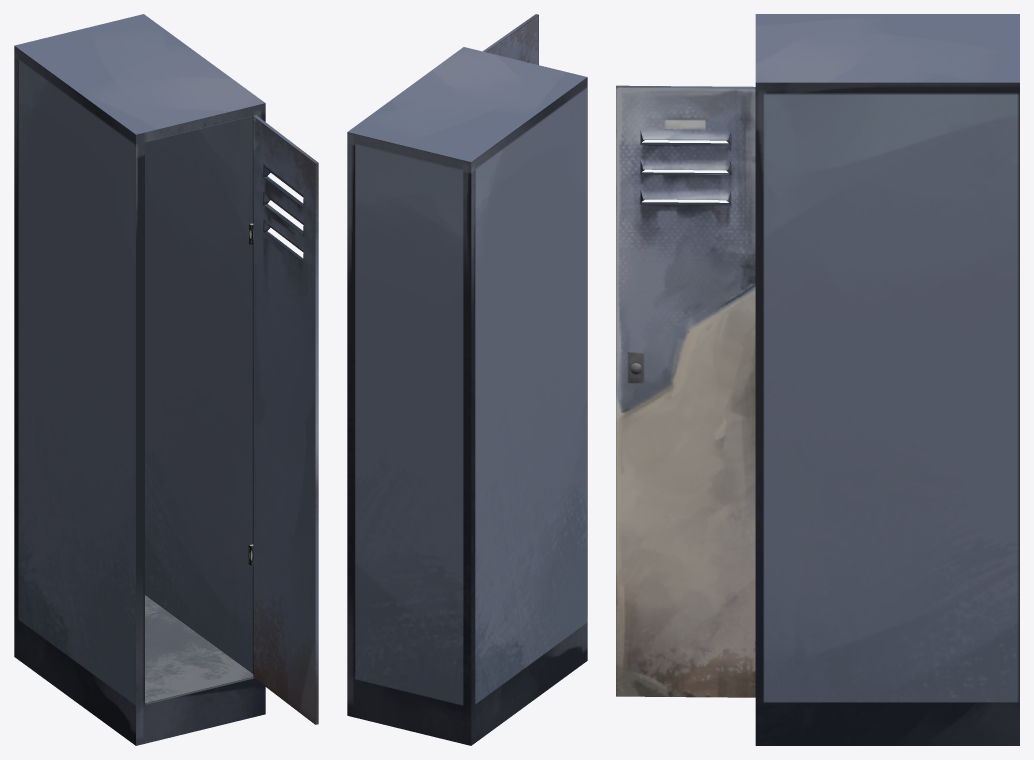
File: LockerAsset.fbx
3 renders of one model, left to right at view 1: azimuth 30°, elevation 25°; view 2: azimuth 150°, elevation 25°; view 3: azimuth 270°, elevation 25°, orthographic. The views are drawn at different scales.
Visible parts, largest first — view 1: Locker, LockerDoor; view 2: Locker, LockerDoor; view 3: Locker, LockerDoor.
Part boxes in pixels (bbox=[...]): Locker: bbox=[14, 14, 265, 745]; LockerDoor: bbox=[253, 115, 318, 724]; Locker: bbox=[347, 47, 587, 745]; LockerDoor: bbox=[483, 14, 538, 64]; Locker: bbox=[755, 14, 1019, 745]; LockerDoor: bbox=[616, 85, 755, 697].
Size of the model in its own units: 39.93 by 99.33 by 180.
